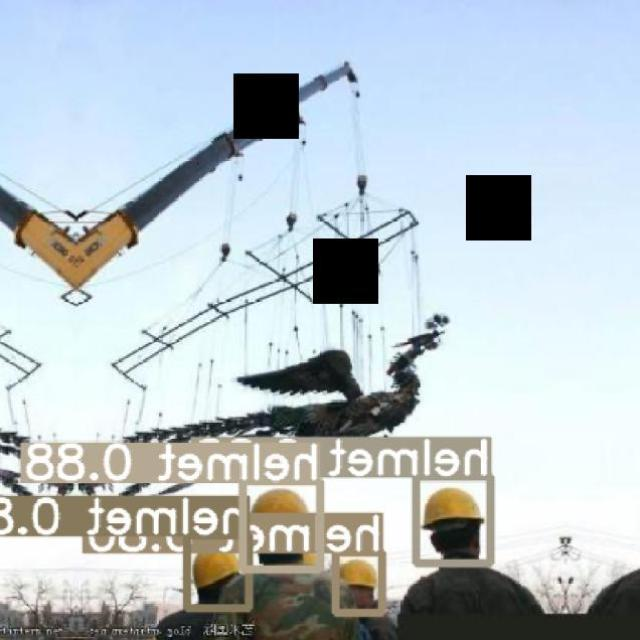helmet: (422, 487, 485, 529), (193, 550, 241, 588), (339, 560, 378, 588)
